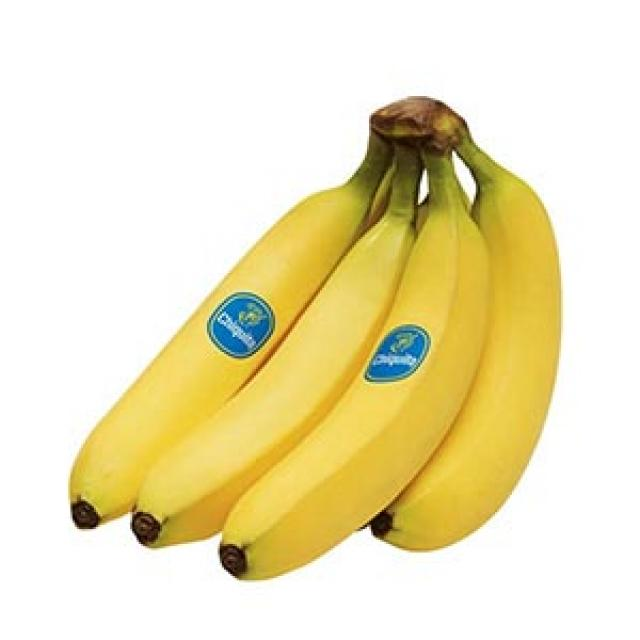banana: (68, 96, 570, 585)
